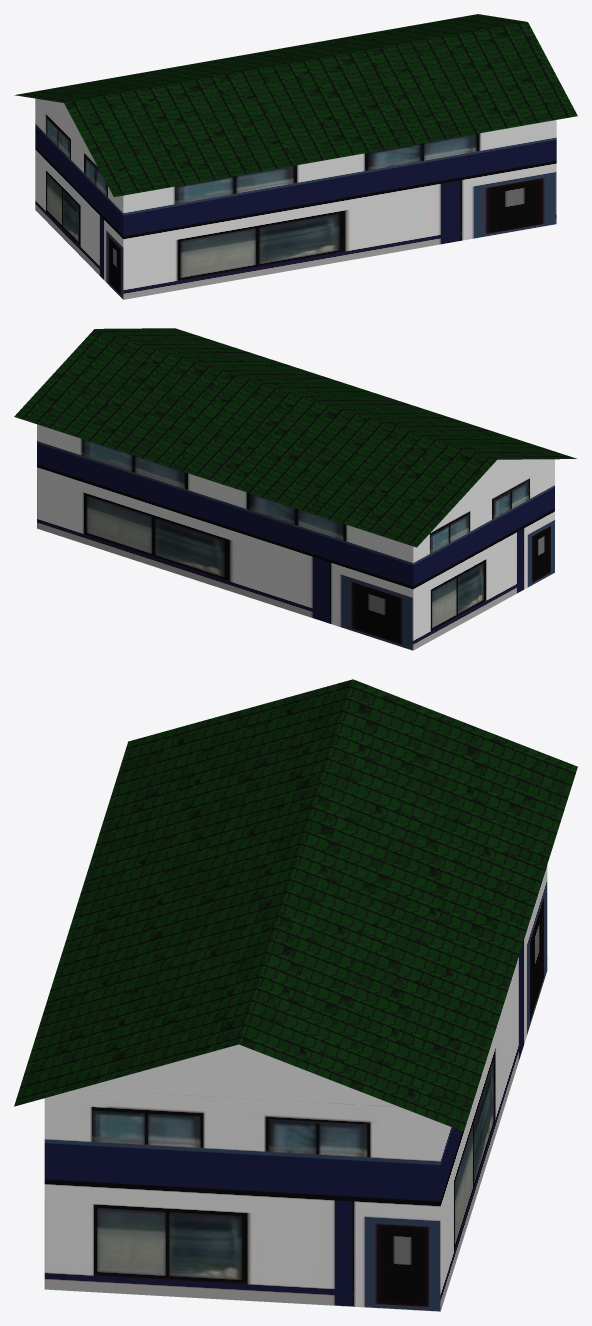
3 views of the same model, one above another, from view 1: azimuth 30°, elevation 25°; view 2: azimuth 150°, elevation 25°; view 3: azimuth 270°, elevation 25° (orthographic). The views are drawn at different scales.
Visible parts, largest first — view 1: CityEngineMaterial_13_m, CityEngineMaterial_2_m, CityEngineMaterial_3_m; view 2: CityEngineMaterial_13_m, CityEngineMaterial_2_m, CityEngineMaterial_3_m; view 3: CityEngineMaterial_13_m, CityEngineMaterial_2_m, CityEngineMaterial_3_m.
Boxes of the visible parts, bbox=[...] form: CityEngineMaterial_13_m: bbox=[14, 14, 577, 196]; CityEngineMaterial_2_m: bbox=[35, 98, 556, 299]; CityEngineMaterial_3_m: bbox=[42, 99, 85, 144]; CityEngineMaterial_13_m: bbox=[14, 328, 576, 547]; CityEngineMaterial_2_m: bbox=[37, 424, 554, 650]; CityEngineMaterial_3_m: bbox=[448, 459, 545, 513]; CityEngineMaterial_13_m: bbox=[14, 679, 577, 1131]; CityEngineMaterial_2_m: bbox=[44, 865, 547, 1311]; CityEngineMaterial_3_m: bbox=[79, 1044, 398, 1106].
Size of the model in its own units: 32.02 by 10.26 by 19.55.
